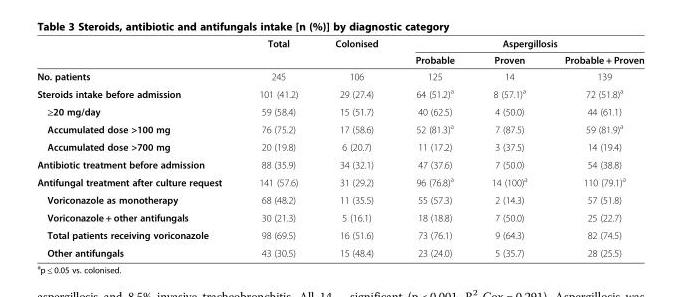table: (36, 37, 643, 258)
table column: (36, 37, 239, 258), (545, 37, 643, 258), (315, 37, 396, 258), (239, 37, 315, 258), (396, 37, 472, 258), (472, 37, 545, 258)
table column header: (36, 37, 643, 67)
table row: (36, 84, 643, 102), (36, 119, 643, 137), (36, 137, 643, 155), (36, 172, 643, 190), (36, 190, 643, 208), (36, 208, 643, 226), (36, 67, 643, 84), (36, 102, 643, 119), (36, 155, 643, 172), (36, 226, 643, 243), (36, 51, 643, 67), (36, 243, 643, 258), (36, 37, 643, 51)
table spanning cell: (396, 37, 643, 51), (315, 37, 396, 67), (239, 37, 315, 67)
